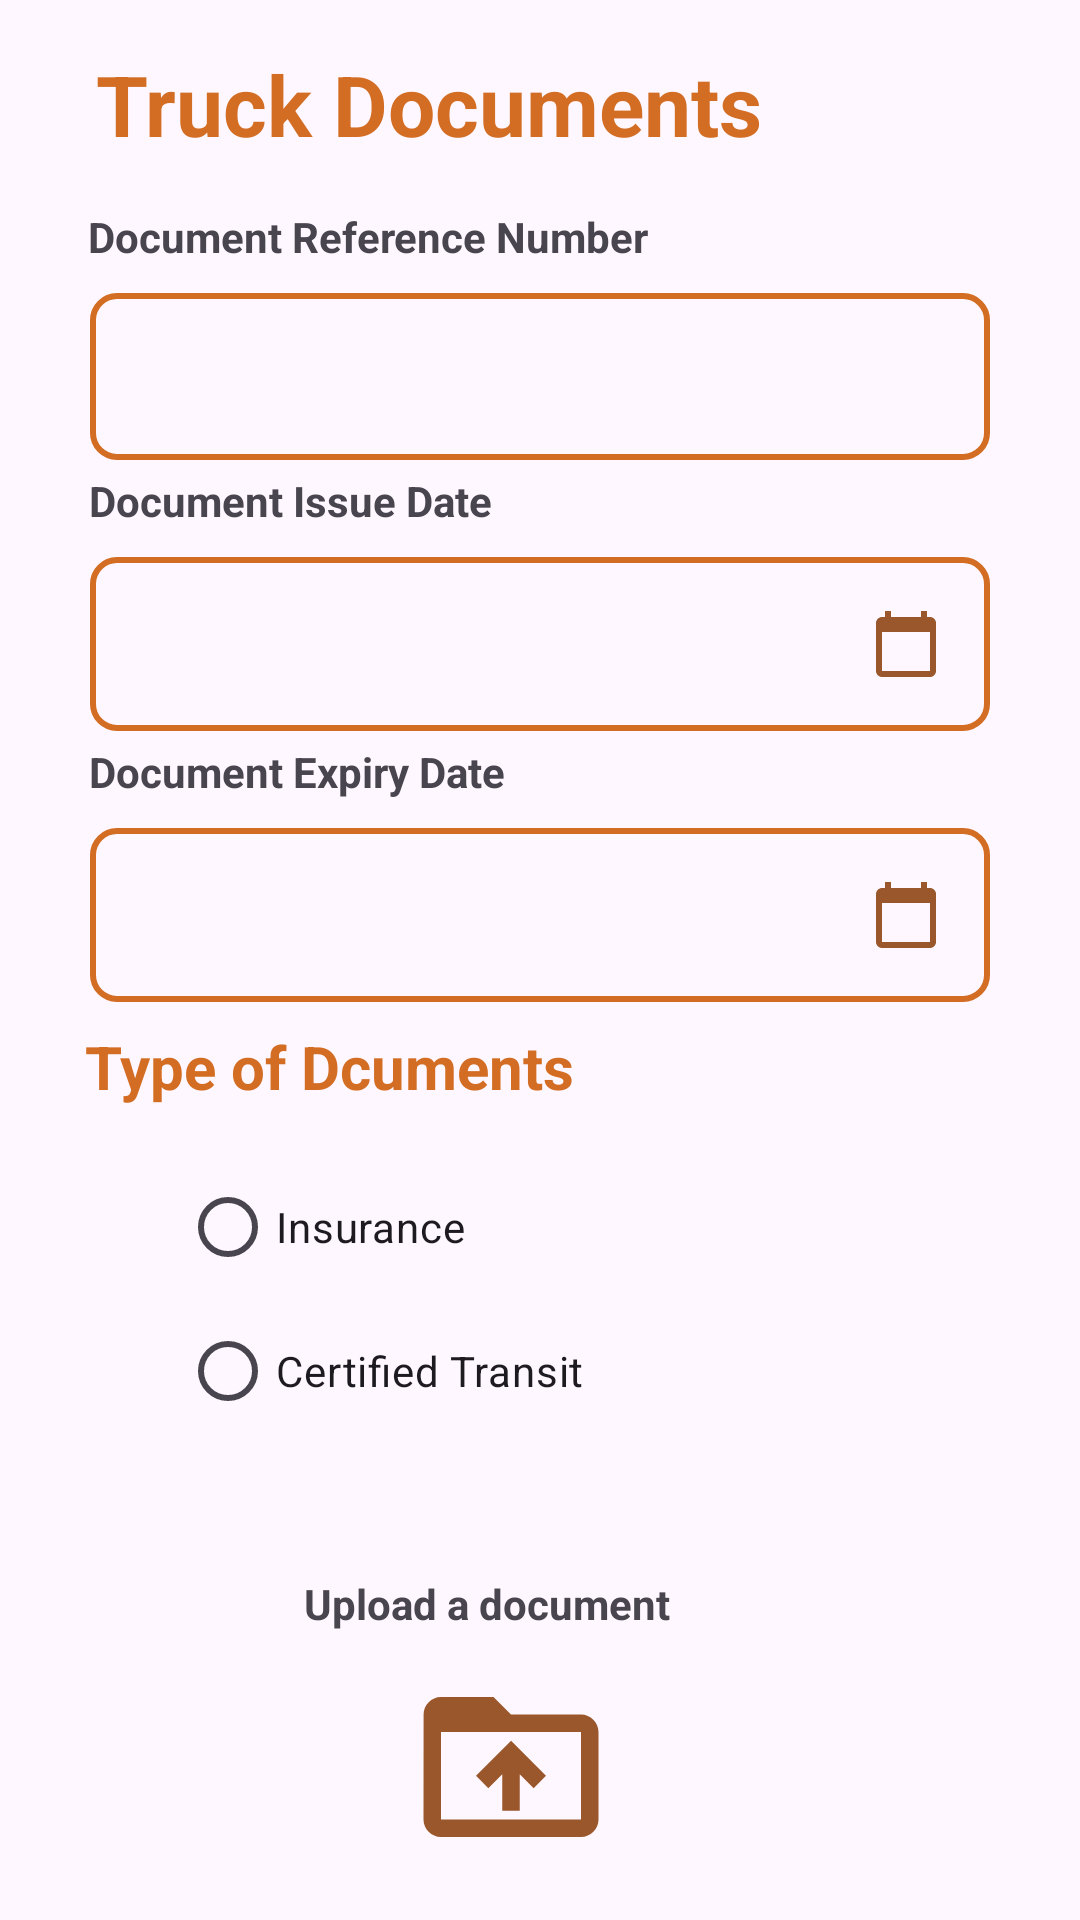

Where icons sit on this 1080px x 1920px app screen, as bbox=[x1, y1, x2, y2]:
drive folder upload: bbox=[423, 1697, 599, 1837]
